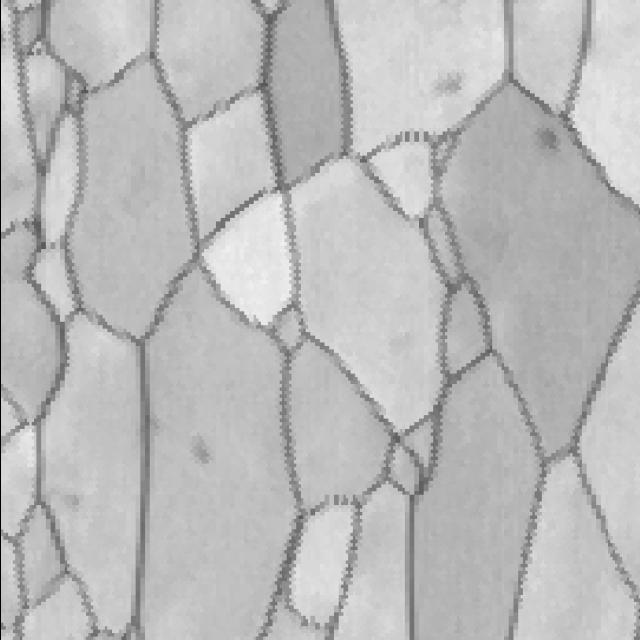good_void: (186, 428, 211, 471), (435, 67, 467, 96), (537, 124, 558, 163)
